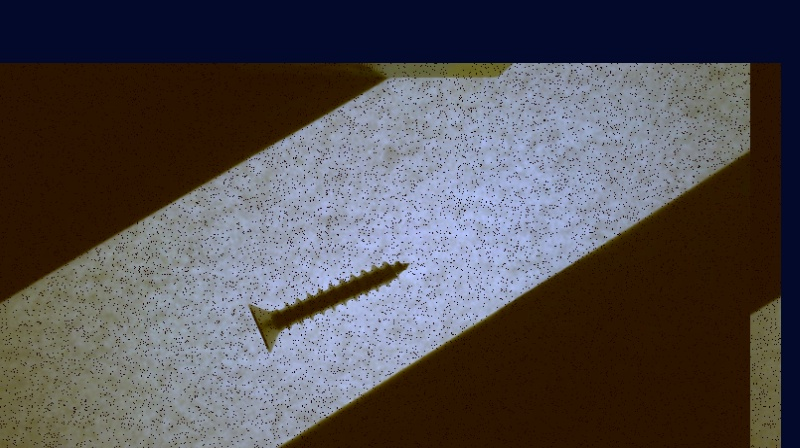S001: (246, 254, 412, 354)
